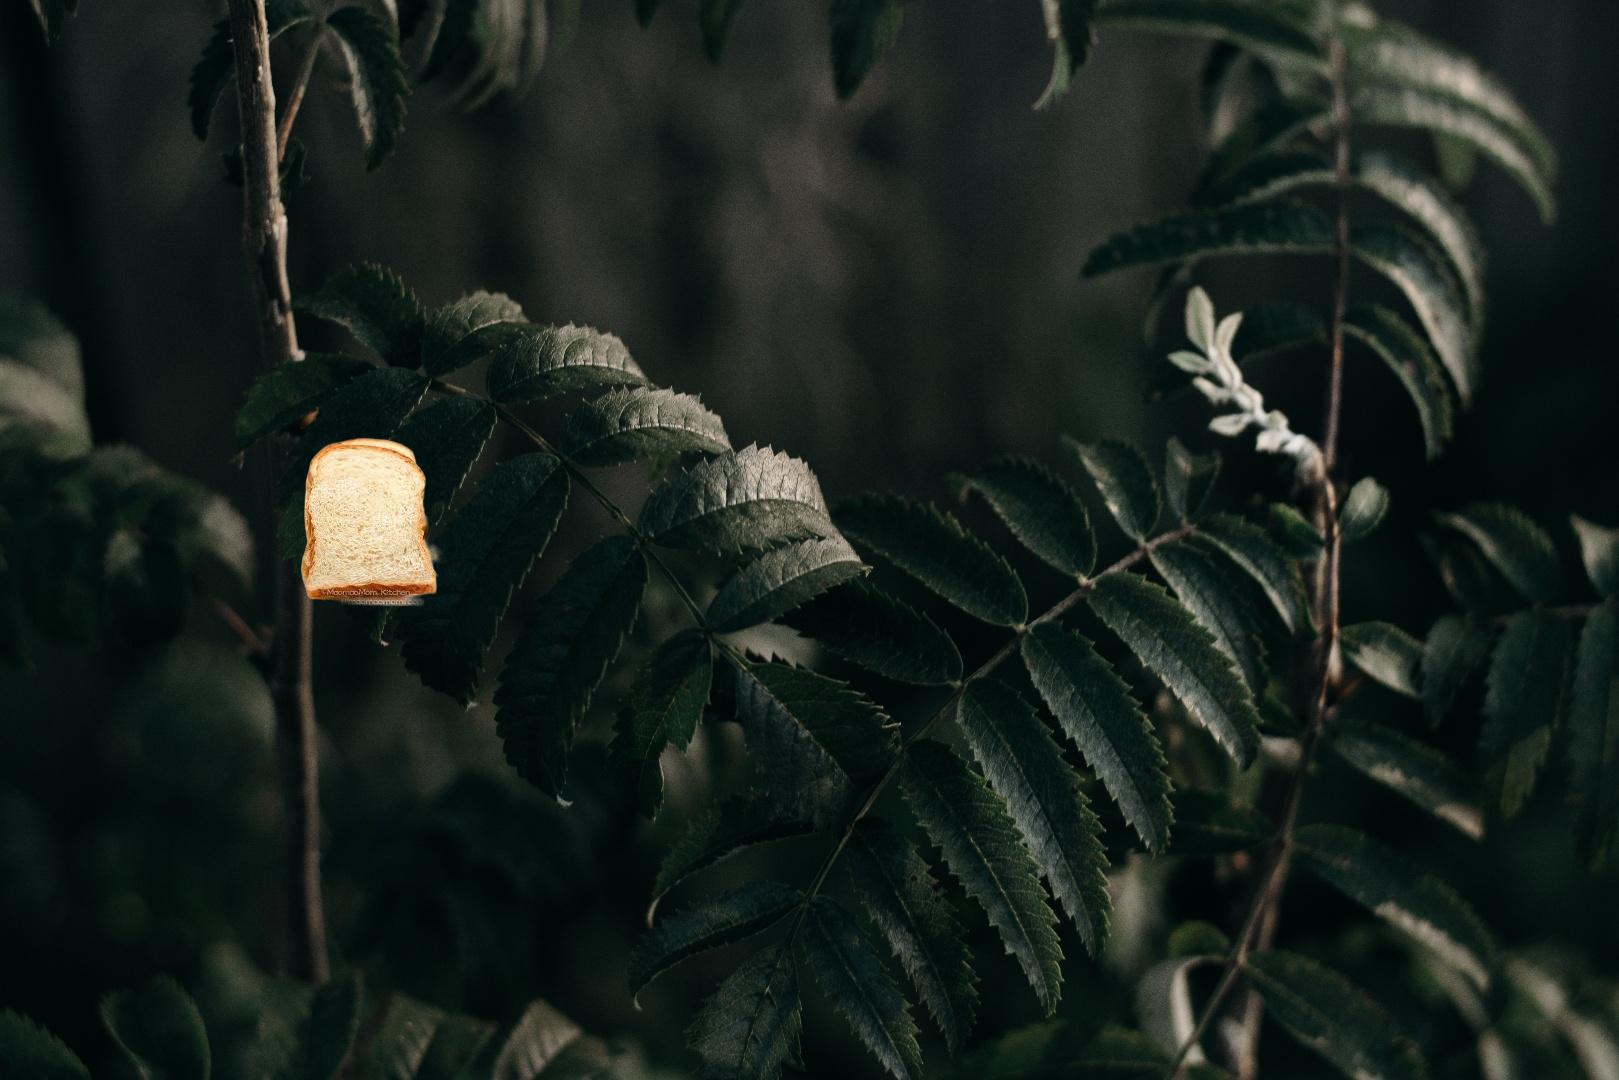biological: (295, 435, 461, 630)
